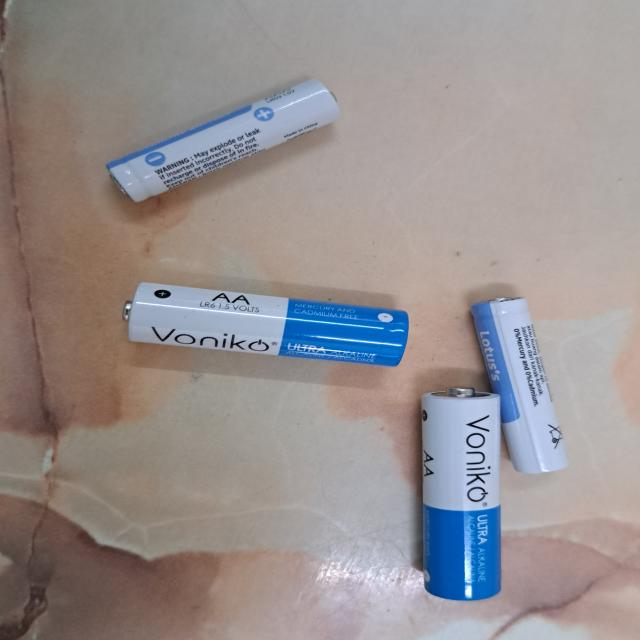battery: (110, 77, 343, 203), (122, 280, 412, 369), (469, 293, 572, 472), (420, 385, 502, 604)
